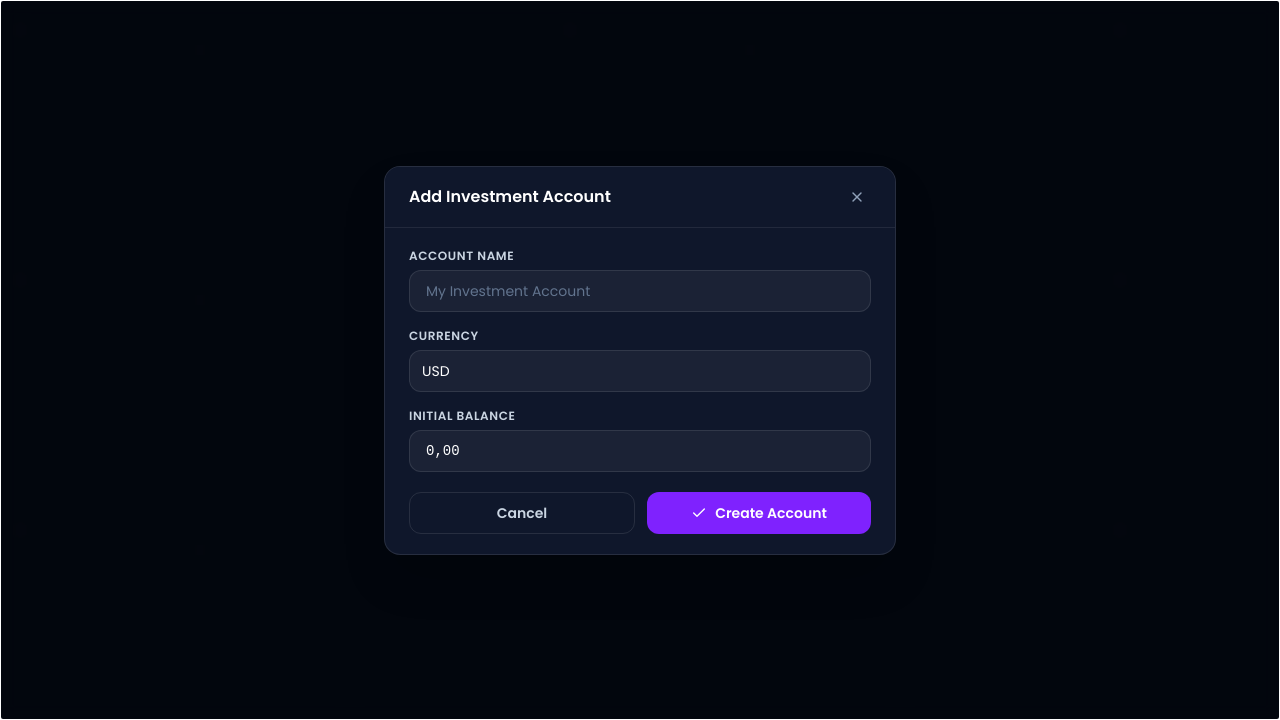
CreateInvestmentModal › should show loading state during submission
Fill account name
Type "My Account" into the field labelled "Account Name" at (640, 290), box [409,270,871,312]
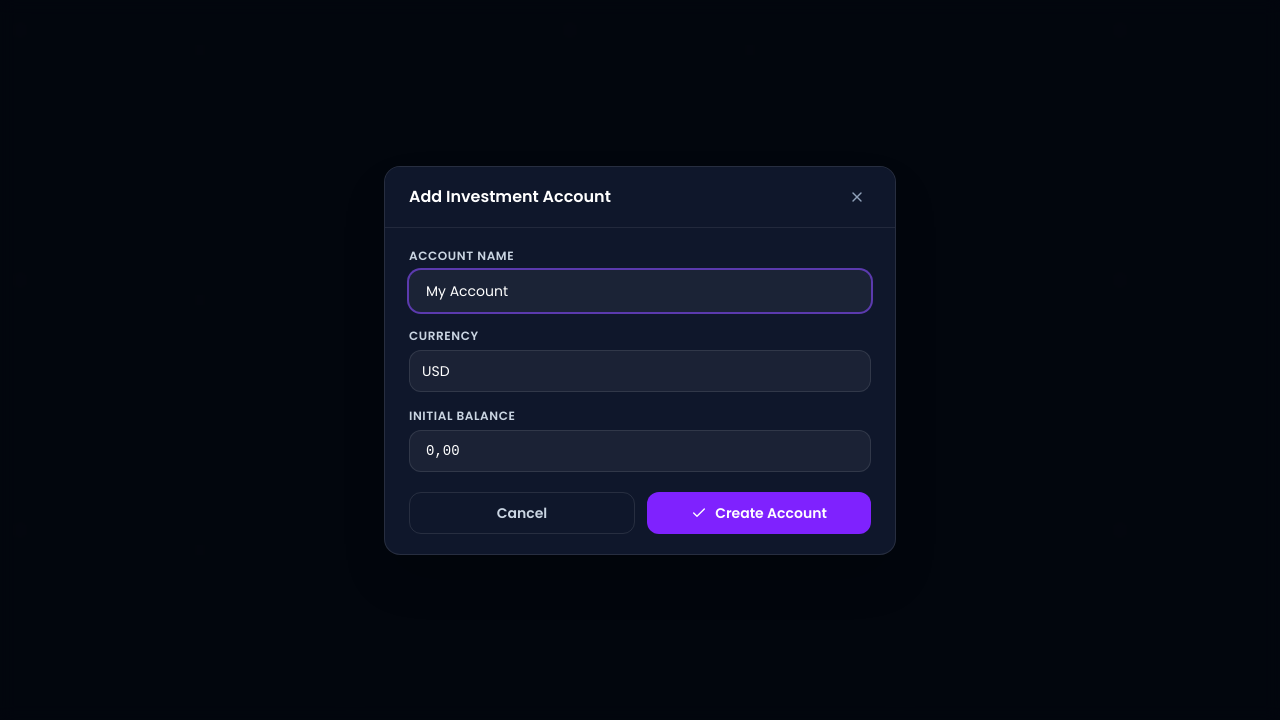
Click the button "Create Account" at (759, 512), box [647,492,871,534]
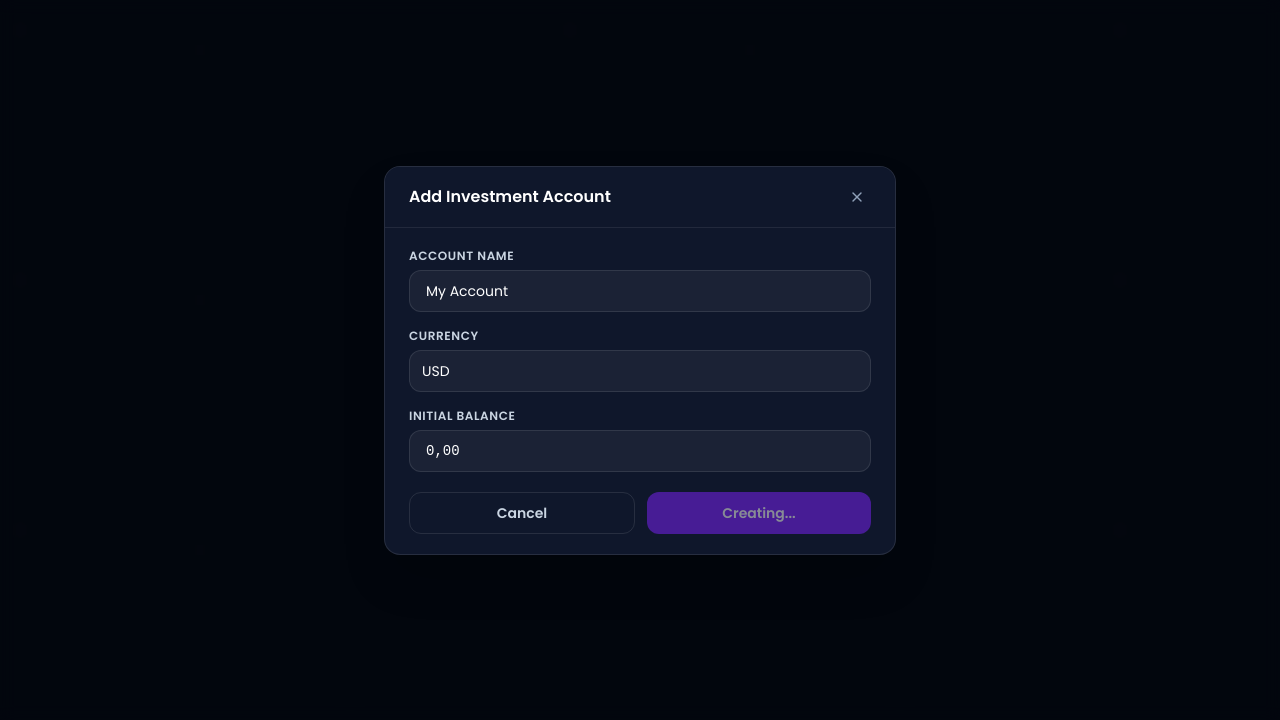
Result: the button "Creating..." is shown at [647,492,871,534]
